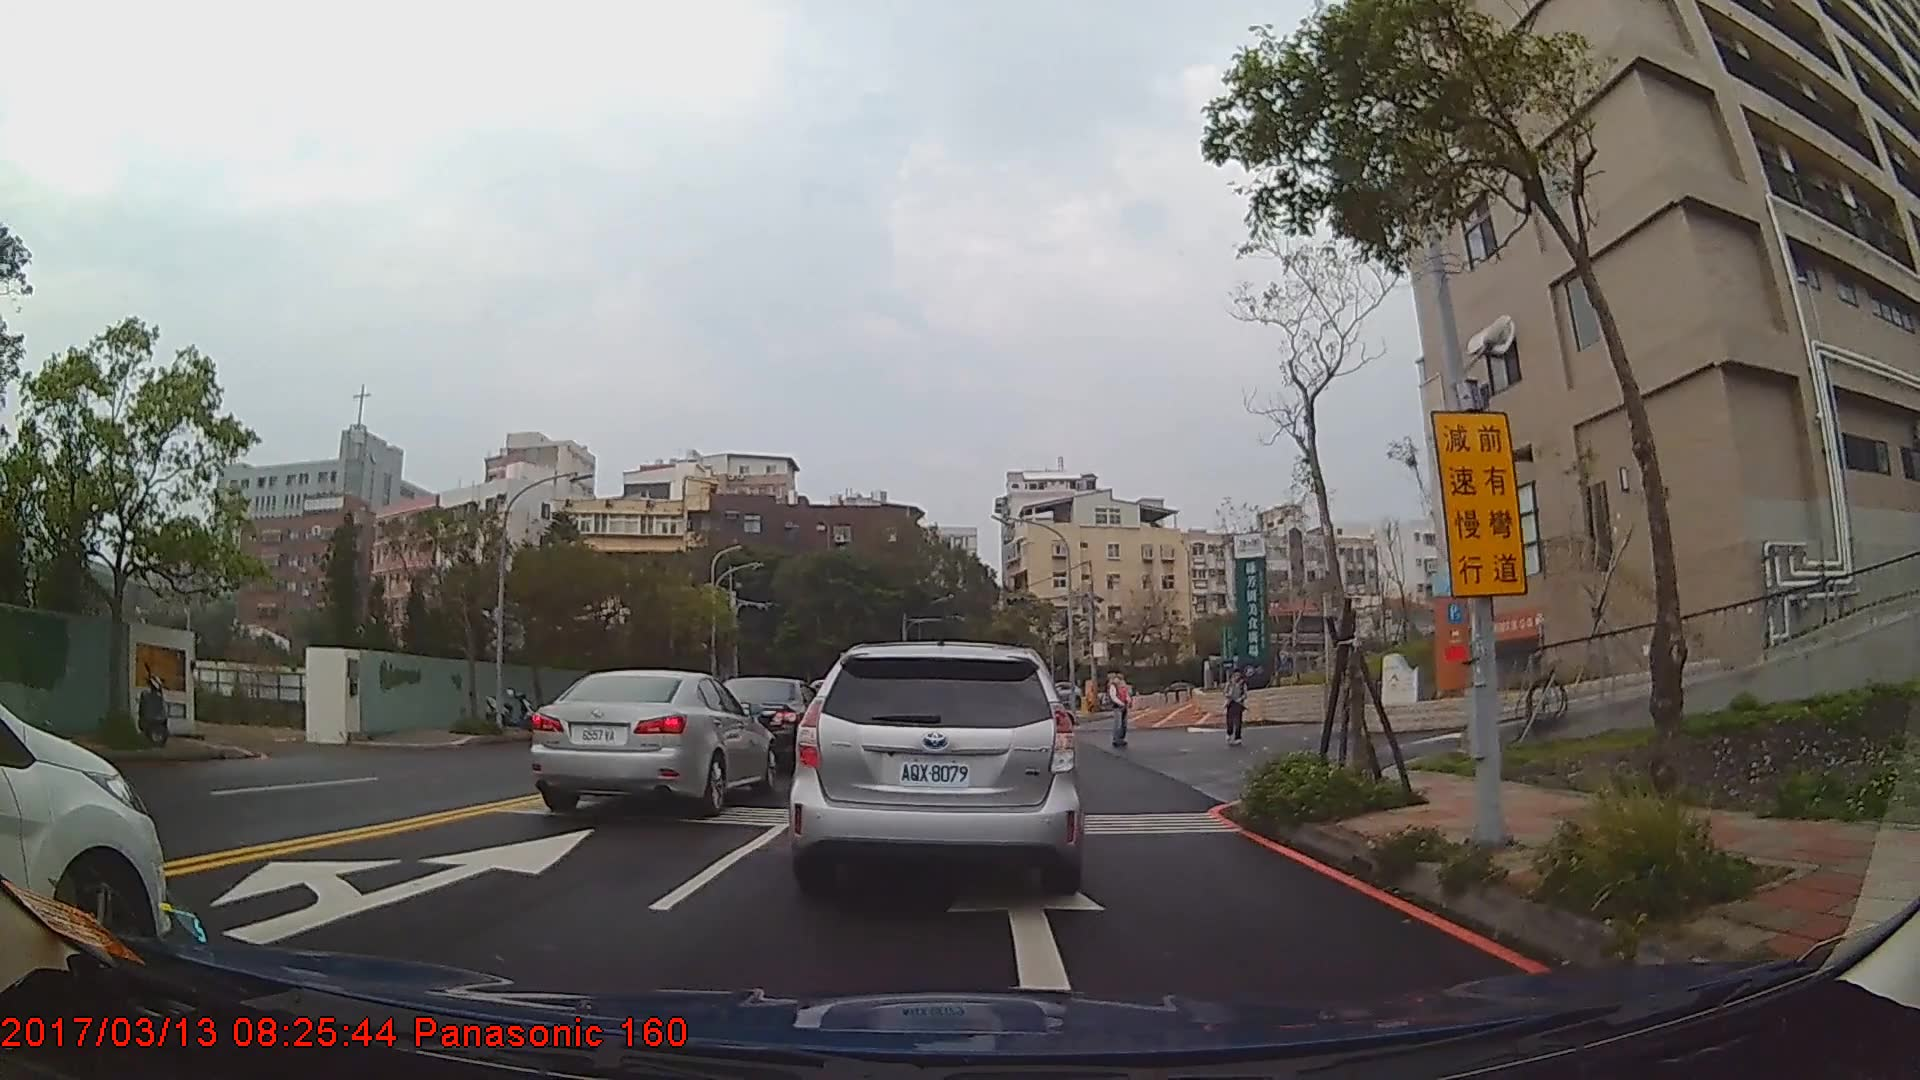pedestrian: (1106, 669, 1134, 747), (1225, 669, 1250, 746)
vehicle: (789, 638, 1085, 894), (0, 700, 170, 958), (527, 668, 777, 813), (708, 675, 826, 766)
